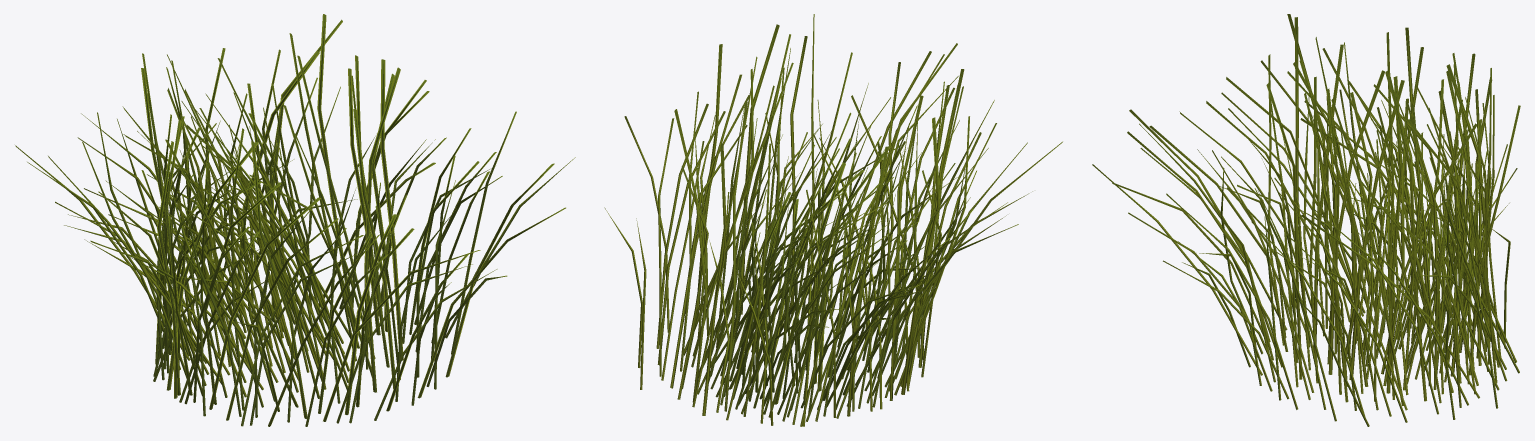
Rendered from grass7.obj.
3 renders of one model, left to right at view 1: azimuth 30°, elevation 25°; view 2: azimuth 150°, elevation 25°; view 3: azimuth 270°, elevation 25°, orthographic. The views are drawn at different scales.
Visible parts, largest first — view 1: tree; view 2: tree; view 3: tree.
Boxes of the visible parts, x1,y1,x2,y2 form: tree: (15,14,575,426); tree: (604,14,1062,426); tree: (1092,14,1520,426).
Bounding box in the file's own units: 181 × 122 × 156.
1 material, 1 textured.
